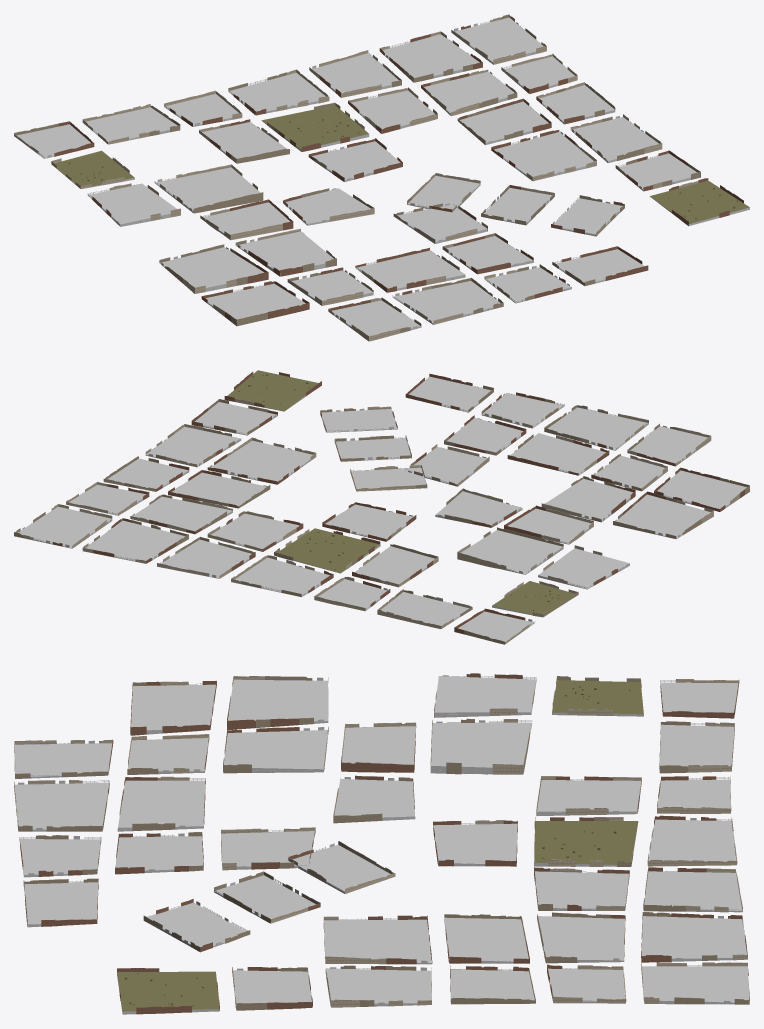
The model's file is city_walls.gltf.
3 renders of one model, top to bottom at view 1: azimuth 30°, elevation 25°; view 2: azimuth 150°, elevation 25°; view 3: azimuth 270°, elevation 25°, orthographic. The views are drawn at different scales.
Visible parts, largest first — view 1: SM_blocks_dirt_road-col, SM_blocks_wall_whitewash-col, SM_blocks_wall_brick-col, SM_blocks_grass_dry-col, SM_blocks_wall_render_raw-col, SM_blocks_wood_aged-col, SM_blocks_roof_metal_rust-col; view 2: SM_blocks_dirt_road-col, SM_blocks_wall_whitewash-col, SM_blocks_wall_brick-col, SM_blocks_grass_dry-col, SM_blocks_wall_render_raw-col, SM_blocks_wood_aged-col, SM_blocks_roof_metal_rust-col; view 3: SM_blocks_dirt_road-col, SM_blocks_grass_dry-col, SM_blocks_wall_whitewash-col, SM_blocks_wall_brick-col, SM_blocks_wall_render_raw-col, SM_blocks_wood_aged-col, SM_blocks_roof_metal_rust-col.
Part boxes in pixels (x1,y1,x2,y2): SM_blocks_dirt_road-col: (16, 17, 749, 341); SM_blocks_wall_whitewash-col: (14, 17, 698, 341); SM_blocks_wall_brick-col: (54, 25, 743, 321); SM_blocks_grass_dry-col: (54, 105, 749, 224); SM_blocks_wall_render_raw-col: (14, 14, 700, 333); SM_blocks_wood_aged-col: (38, 21, 691, 327); SM_blocks_roof_metal_rust-col: (47, 22, 643, 329); SM_blocks_dirt_road-col: (18, 376, 746, 641); SM_blocks_wall_whitewash-col: (23, 398, 739, 644); SM_blocks_wall_brick-col: (52, 372, 744, 634); SM_blocks_grass_dry-col: (227, 370, 574, 614); SM_blocks_wall_render_raw-col: (14, 385, 749, 644); SM_blocks_wood_aged-col: (30, 385, 729, 625); SM_blocks_roof_metal_rust-col: (22, 393, 684, 621); SM_blocks_dirt_road-col: (14, 676, 749, 1014); SM_blocks_grass_dry-col: (117, 680, 643, 1011); SM_blocks_wall_whitewash-col: (14, 676, 749, 1007); SM_blocks_wall_brick-col: (20, 673, 748, 1014); SM_blocks_wall_render_raw-col: (14, 676, 749, 1010); SM_blocks_wood_aged-col: (16, 676, 748, 1005); SM_blocks_roof_metal_rust-col: (15, 675, 736, 1006).
Bounding box in the file's own units: 390 × 15.35 × 376.
